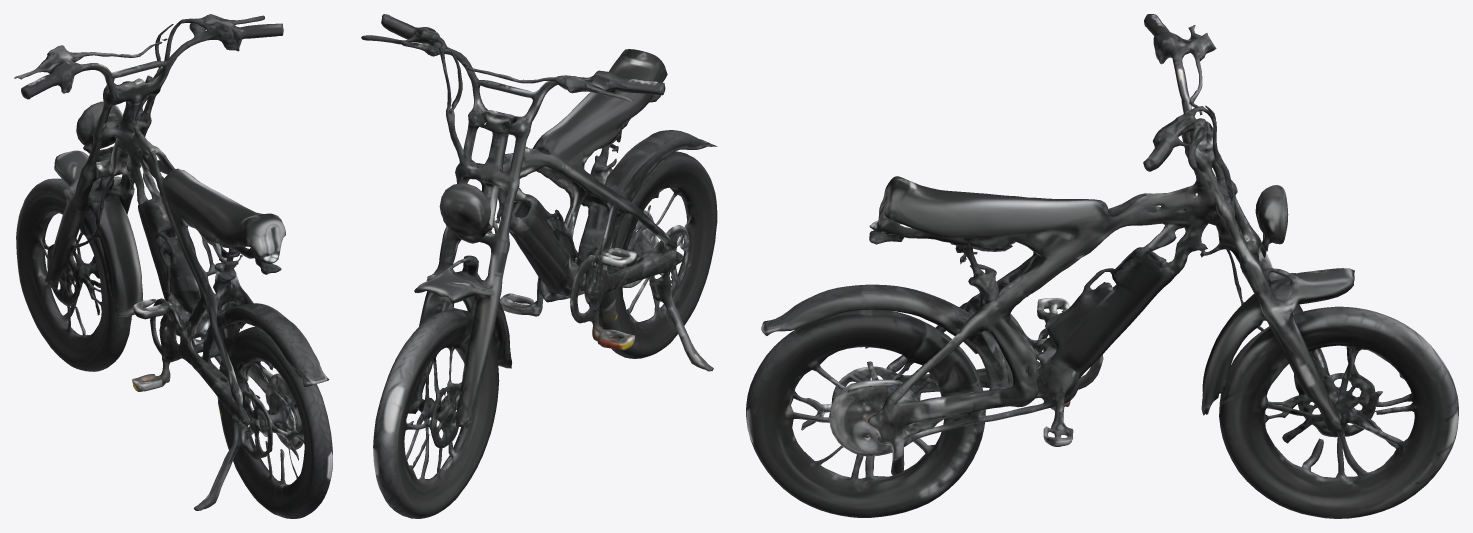
The model's file is Fatbike.glb.
3 renders of one model, left to right at view 1: azimuth 30°, elevation 25°; view 2: azimuth 150°, elevation 25°; view 3: azimuth 270°, elevation 25°, orthographic. The views are drawn at different scales.
Parts seen in each view (by area): view 1: Object_2; view 2: Object_2; view 3: Object_2.
Boxes of the visible parts, x1,y1,x2,y2 form: Object_2: (14, 14, 332, 518); Object_2: (361, 14, 717, 518); Object_2: (746, 14, 1458, 518).
Bounding box in the file's own units: 0.9898 × 1.37 × 2.
1 material, 1 textured.
